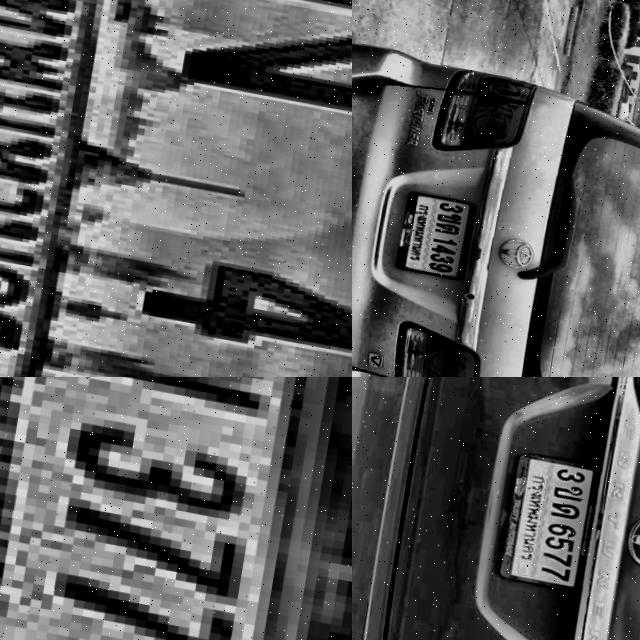license-plate: (0, 0, 352, 377), (0, 377, 352, 640), (498, 449, 602, 589), (389, 186, 494, 288)
